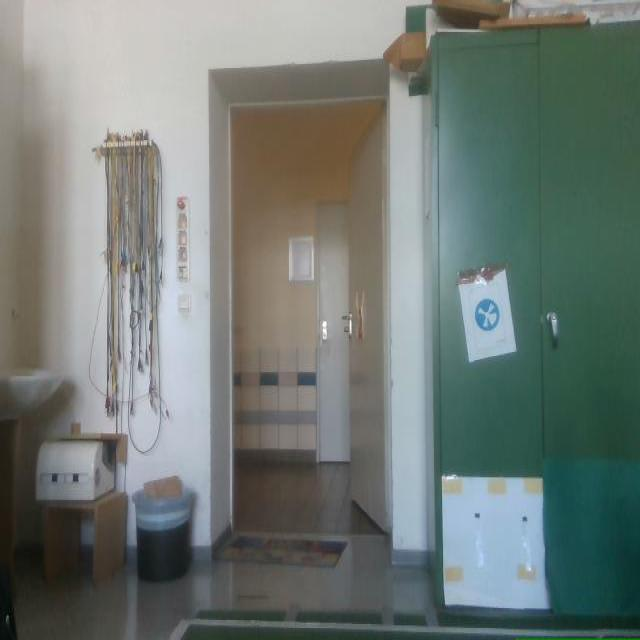objects: (425, 22, 639, 635), (95, 131, 167, 419), (543, 455, 639, 629), (43, 491, 126, 583), (132, 490, 193, 581), (36, 439, 115, 501), (0, 566, 16, 639)
